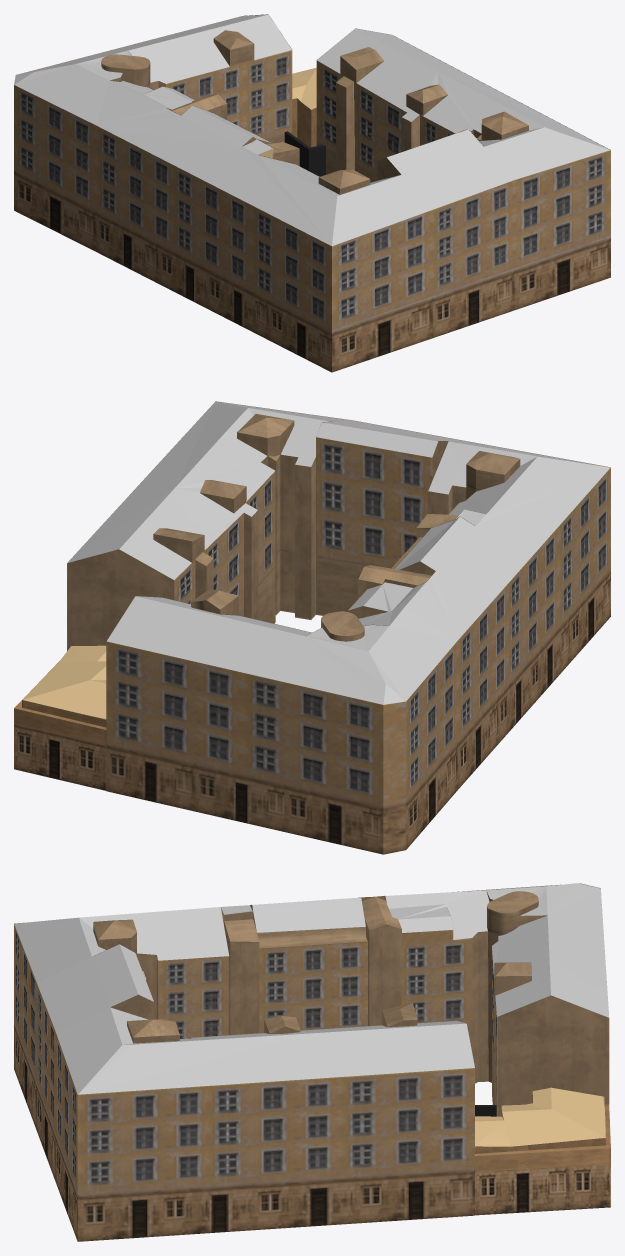
Rendered from Cours.dae.
3 renders of one model, top to bottom at view 1: azimuth 30°, elevation 25°; view 2: azimuth 150°, elevation 25°; view 3: azimuth 270°, elevation 25°, orthographic. The views are drawn at different scales.
Visible parts, largest first — view 1: Batiment, Toit, Angle, Mur; view 2: Batiment, Toit, Angle; view 3: Batiment, Toit, Angle.
Part boxes in pixels (box(x1,y1,x2,y2)): Batiment: box(14, 14, 610, 372); Toit: box(14, 14, 610, 245); Angle: box(292, 67, 316, 147); Mur: box(284, 131, 325, 176); Batiment: box(67, 401, 610, 854); Toit: box(68, 401, 610, 704); Angle: box(14, 645, 106, 790); Batiment: box(14, 883, 609, 1241); Toit: box(14, 883, 609, 1094); Angle: box(475, 1087, 610, 1215).
Size of the model in its own units: 72.49 by 28.79 by 85.69.
